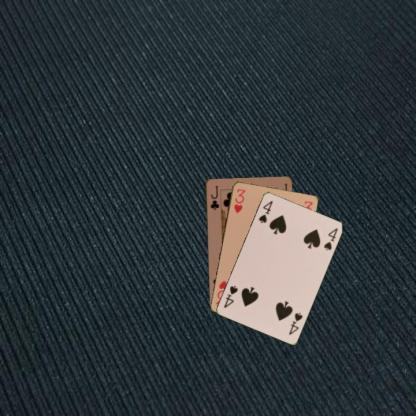3h: (231, 186, 246, 214)
4s: (256, 198, 274, 224), (286, 310, 304, 336)
Jc: (208, 183, 220, 211)
